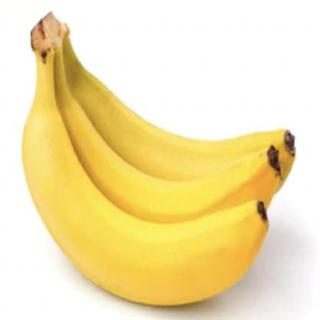banana: (20, 104, 272, 308), (46, 98, 282, 256), (64, 78, 298, 219)
